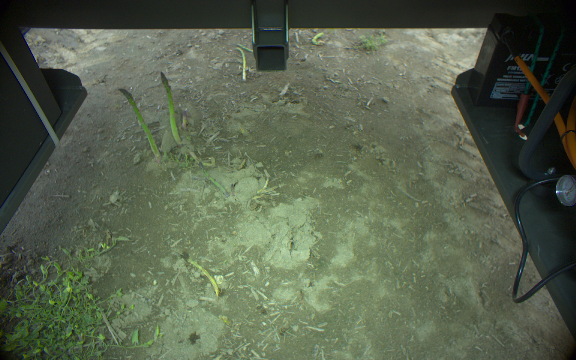aspa: (118, 86, 160, 159), (179, 255, 221, 296), (159, 69, 181, 145), (198, 162, 230, 201), (234, 45, 247, 81), (234, 41, 253, 53), (311, 32, 325, 46), (180, 110, 187, 129)
